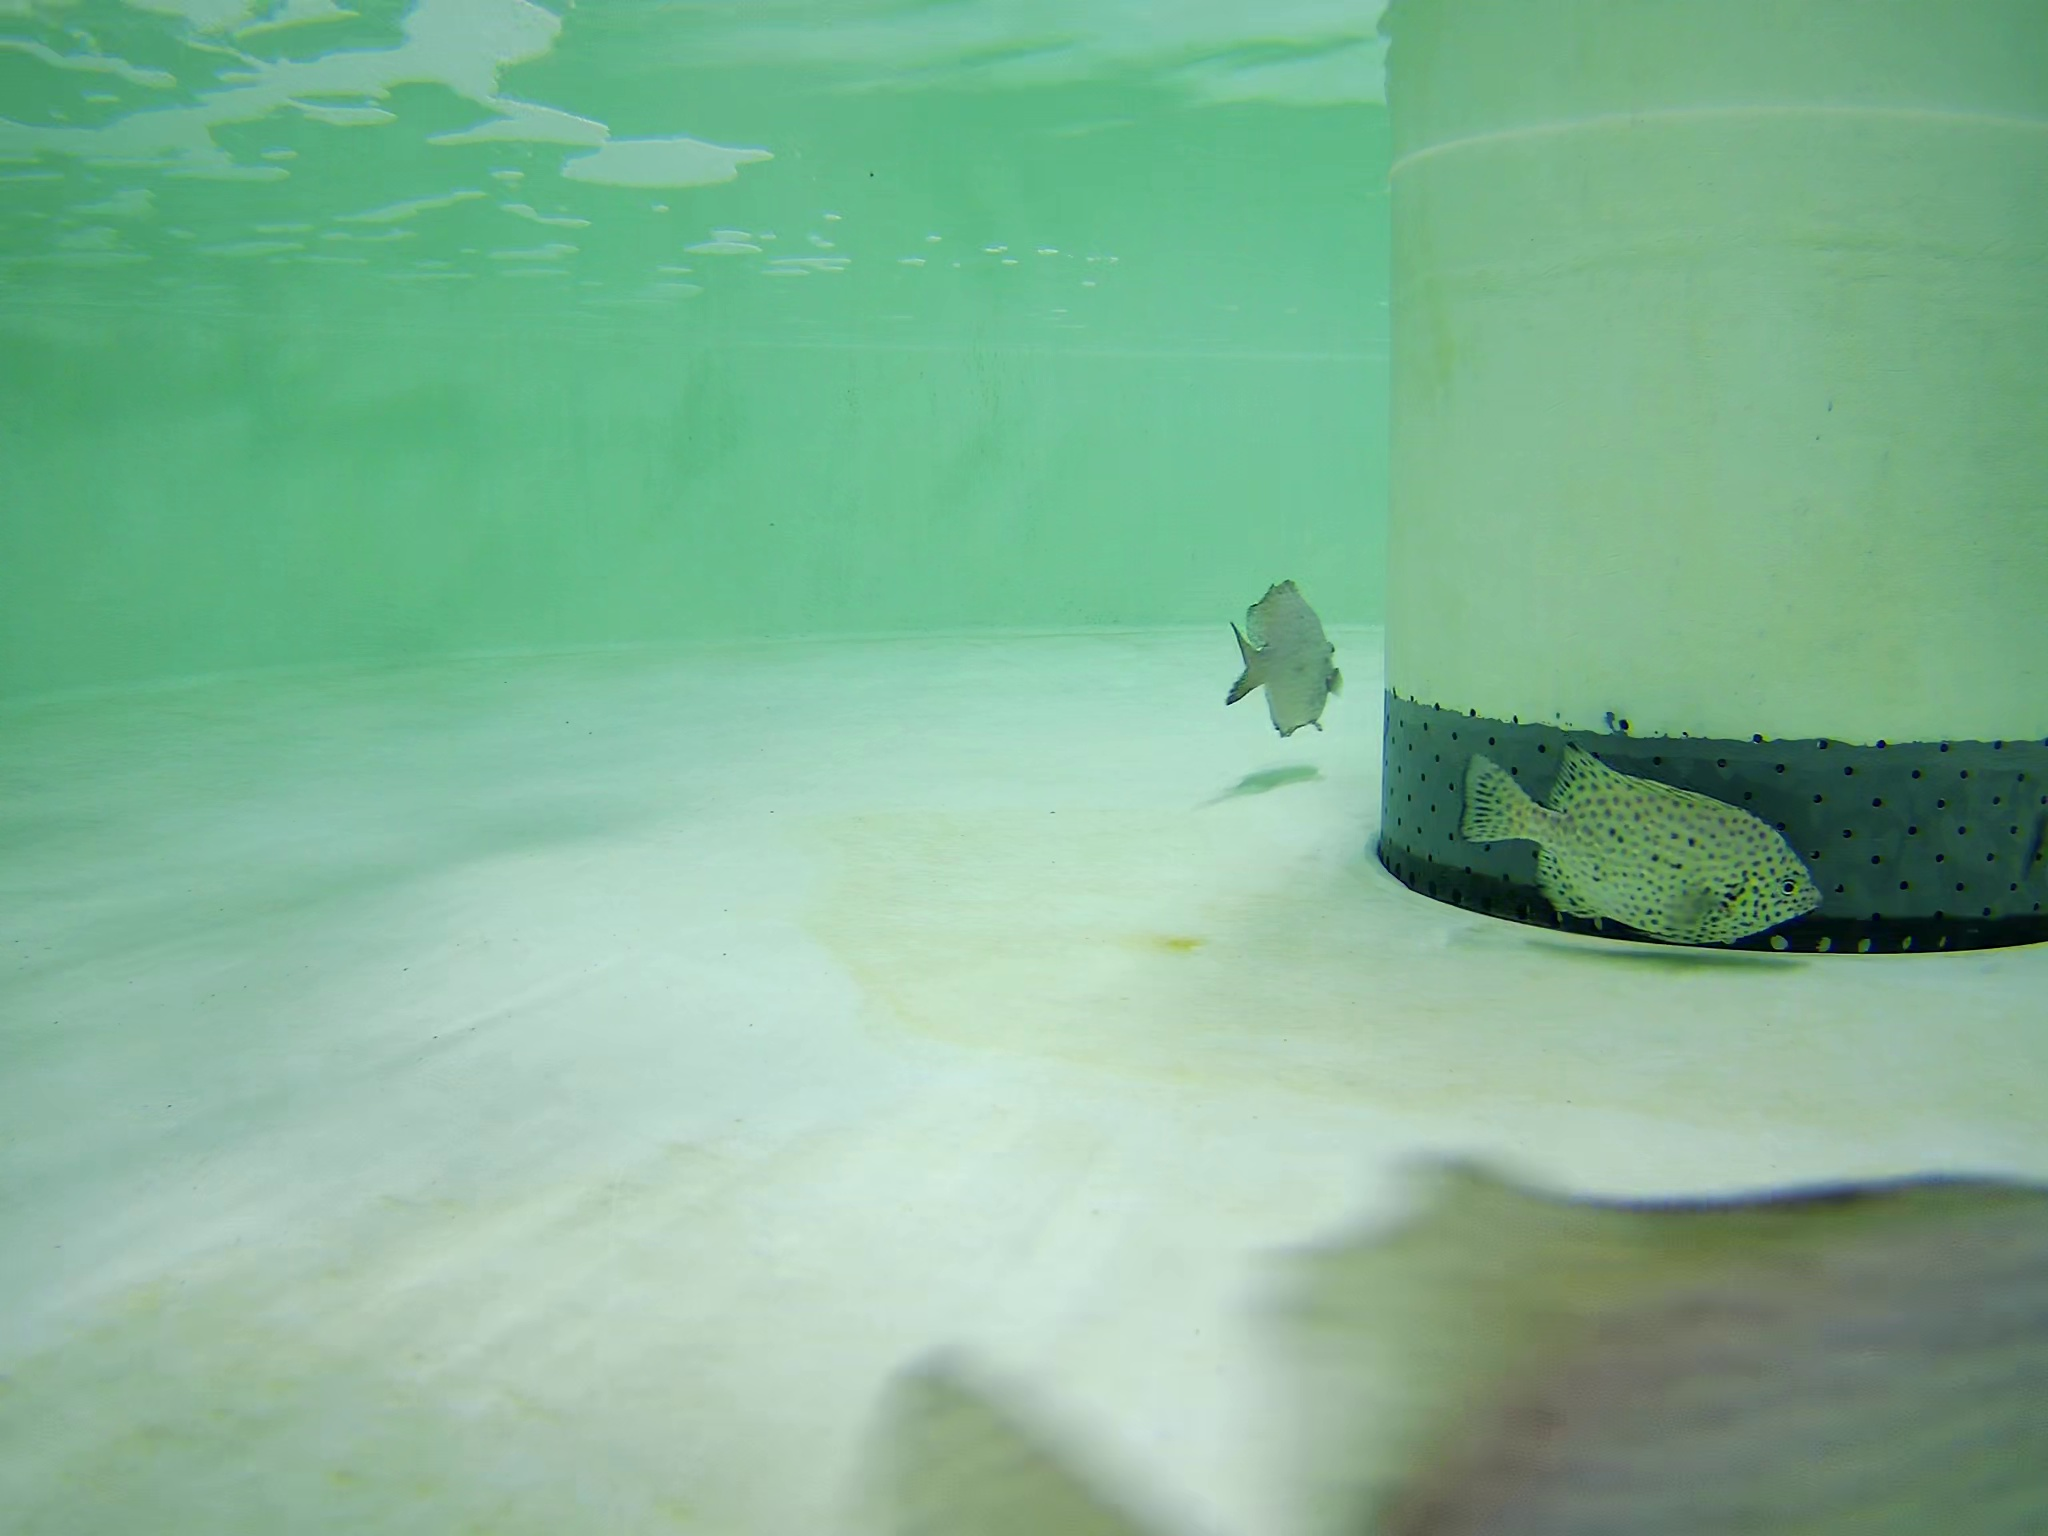fish: (843, 1165, 2048, 1536), (1459, 737, 1829, 954), (1224, 576, 1342, 734)
